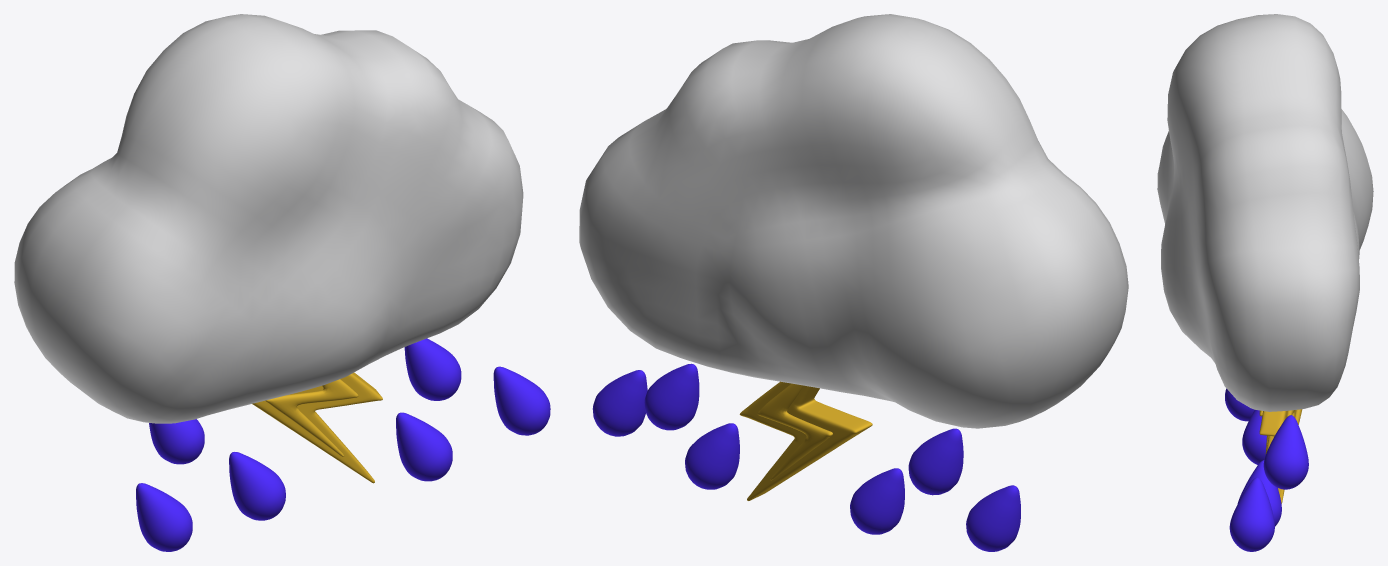
File: thunder cloud FBX.glb
3 views of the same model, side by side, from view 1: azimuth 30°, elevation 25°; view 2: azimuth 150°, elevation 25°; view 3: azimuth 270°, elevation 25° (orthographic). The views are drawn at different scales.
Visible parts, largest first — view 1: Group26308, Group12022, Group33369, Group33370, Group33373, Group33372, Group33368, Group33371, ZBrush_defualt_group; view 2: Group26308, Group12022, Group33368, Group33371, Group33372, Group33370, Group33373, Group33369, Group1; view 3: Group26308, Group33369, Group33368, Group33372, Group33370, Group12022, Group33373.
Part boxes in pixels (x1,y1,x2,y2): Group26308: (14,14,523,423); Group12022: (252,372,382,483); Group33369: (493,366,550,435); Group33370: (396,412,452,481); Group33373: (136,483,192,551); Group33372: (229,452,285,520); Group33368: (404,338,461,400); Group33371: (149,419,204,464); ZBrush_defualt_group: (265,379,358,456); Group26308: (579,14,1128,428); Group12022: (739,381,872,500); Group33368: (644,363,699,430); Group33371: (908,428,963,495); Group33372: (850,468,904,534); Group33370: (685,423,739,489); Group33373: (966,485,1020,551); Group33369: (592,370,647,436); Group1: (757,383,832,480); Group26308: (1157,14,1373,411); Group33369: (1229,477,1274,551); Group33368: (1263,415,1308,489); Group33372: (1242,410,1266,464); Group33370: (1237,460,1281,526); Group12022: (1259,410,1296,503); Group33373: (1225,388,1254,421).
Bounding box in the file's own units: 0.5435 × 0.5128 × 0.2315.
